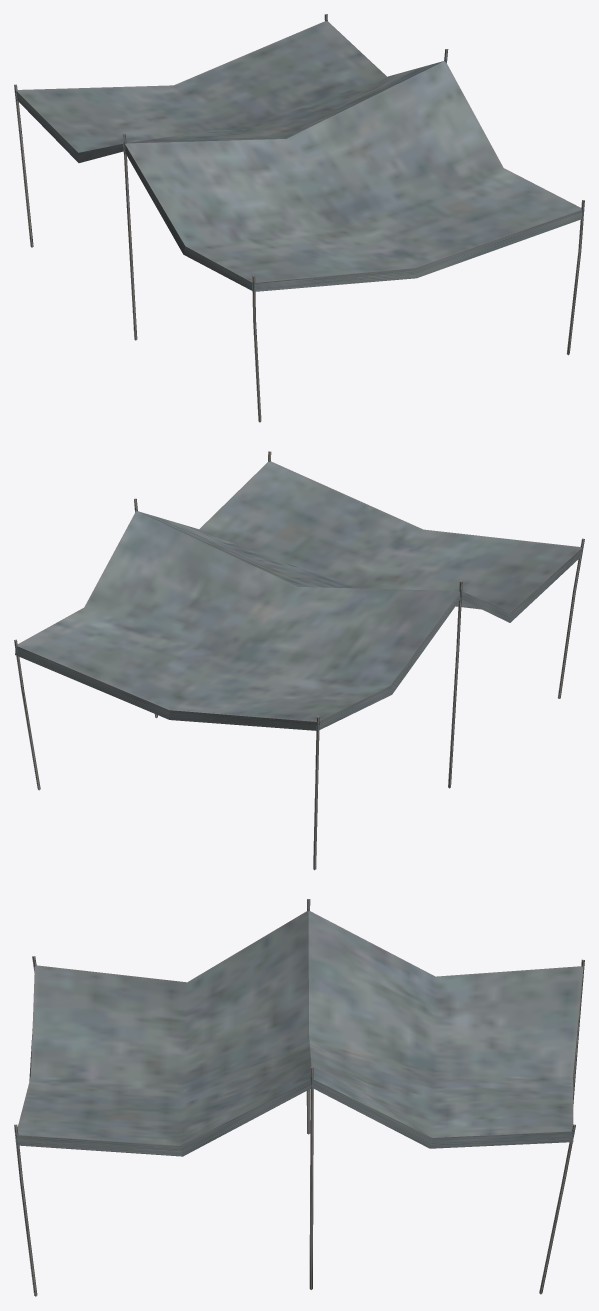
Rendered from poi_all_tent_med_l2.fbx.
The picture shows the model from 3 angles, top to bottom: view 1: azimuth 30°, elevation 25°; view 2: azimuth 150°, elevation 25°; view 3: azimuth 270°, elevation 25°; orthographic projection. The views are drawn at different scales.
Parts seen in each view (by area): view 1: mesh_node; view 2: mesh_node; view 3: mesh_node.
Boxes of the visible parts, x1,y1,x2,y2 form: mesh_node: (14, 14, 584, 422); mesh_node: (14, 451, 584, 870); mesh_node: (14, 899, 584, 1296).
Size of the model in its own units: 6.53 by 4.07 by 9.03.
